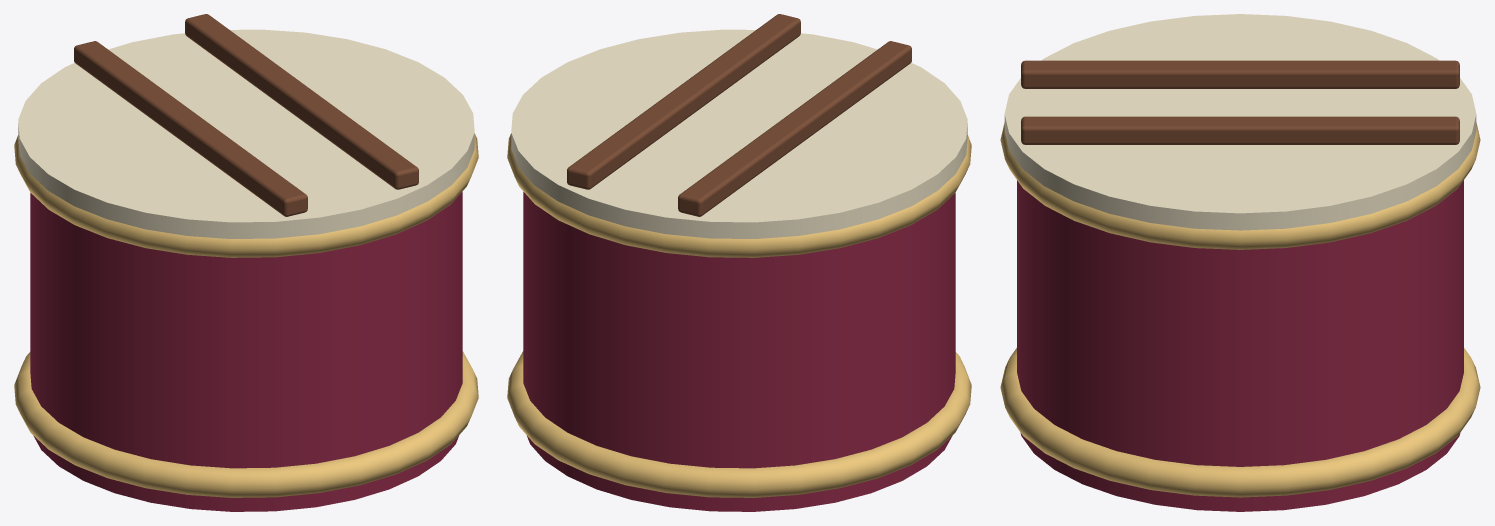
Rendered from royal-court-and-throne-palace-ceremonial-drum-fbf99710__29427.glb.
3 renders of one model, left to right at view 1: azimuth 30°, elevation 25°; view 2: azimuth 150°, elevation 25°; view 3: azimuth 270°, elevation 25°, orthographic. The views are drawn at different scales.
Visible parts, largest first — view 1: ceremonial-drum; view 2: ceremonial-drum; view 3: ceremonial-drum.
Part boxes in pixels (left/top/right/bottom): ceremonial-drum: left=14, top=14, right=478, bottom=511; ceremonial-drum: left=507, top=14, right=971, bottom=511; ceremonial-drum: left=1000, top=14, right=1480, bottom=511.
Size of the model in its own units: 0.58 by 0.432 by 0.58.
